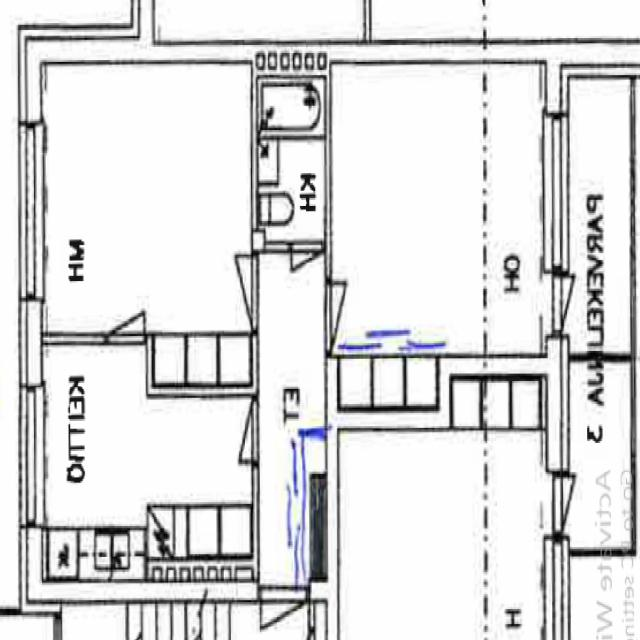door: (546, 269, 609, 336), (208, 256, 258, 327), (325, 283, 371, 349), (212, 399, 258, 464), (107, 276, 144, 343), (291, 243, 322, 302)
